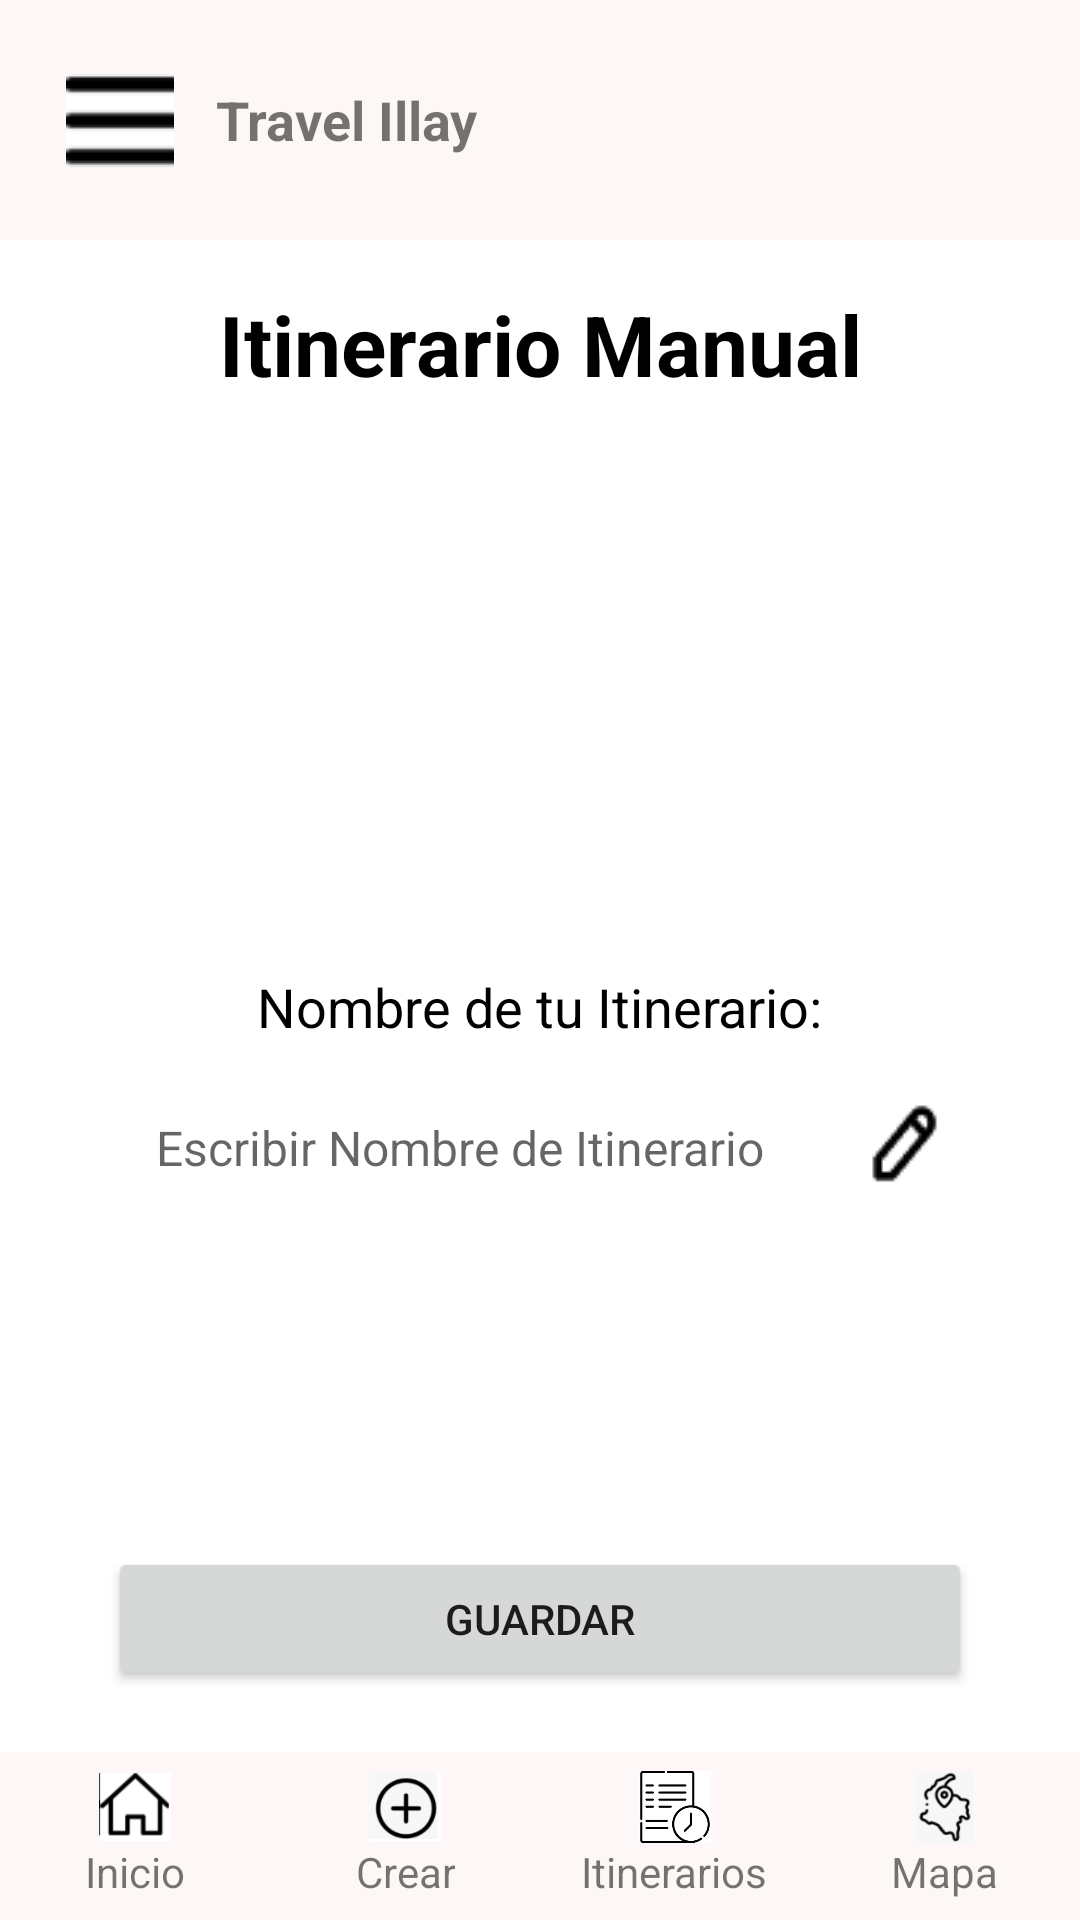

Locate icon controls on the screen. Image size 1080x1920, boxes as (x1, y1, x2, y2).
Editar nombre: (872, 1105, 937, 1182)
Menú principal: (66, 76, 174, 167)
